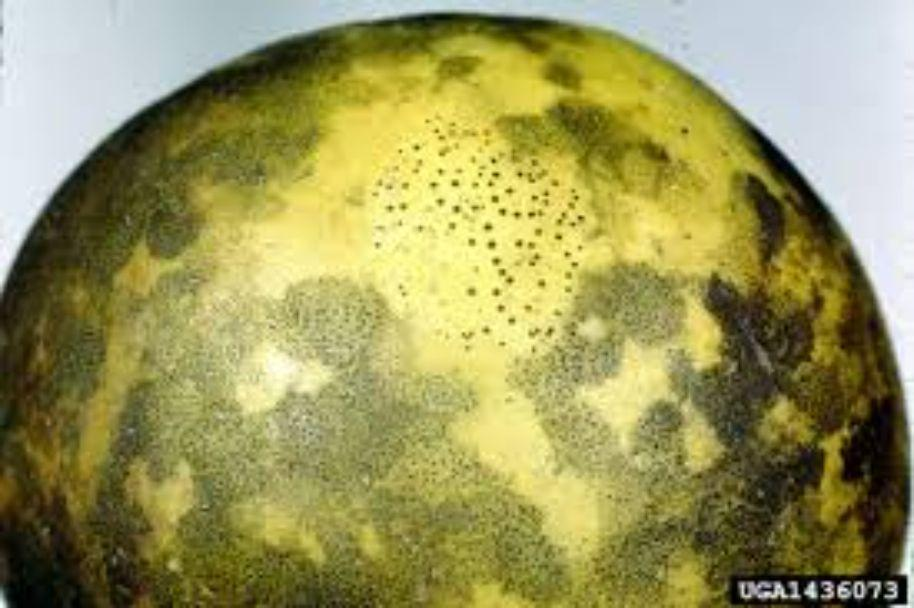BLOTCH: (16, 19, 909, 591)
